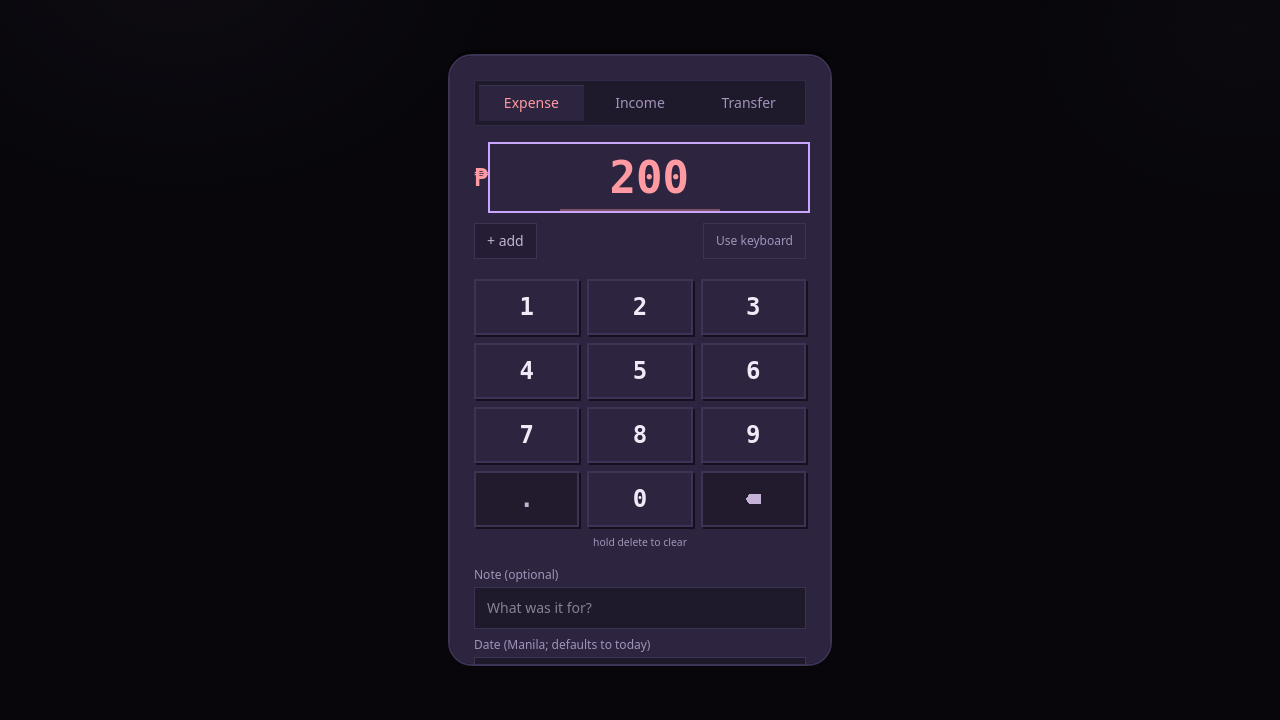
Test: AddSheet keypad (touch) › accepts a digit after a prefilled amount, which is where it used to die
The width and height of the screenshot is (1280, 720).
Expected: the field named "Amount in pesos" holds "200", top-left (492, 146), bottom-right (806, 209)
Click the button "5" at (640, 371), box top-left (587, 343), bottom-right (693, 399)
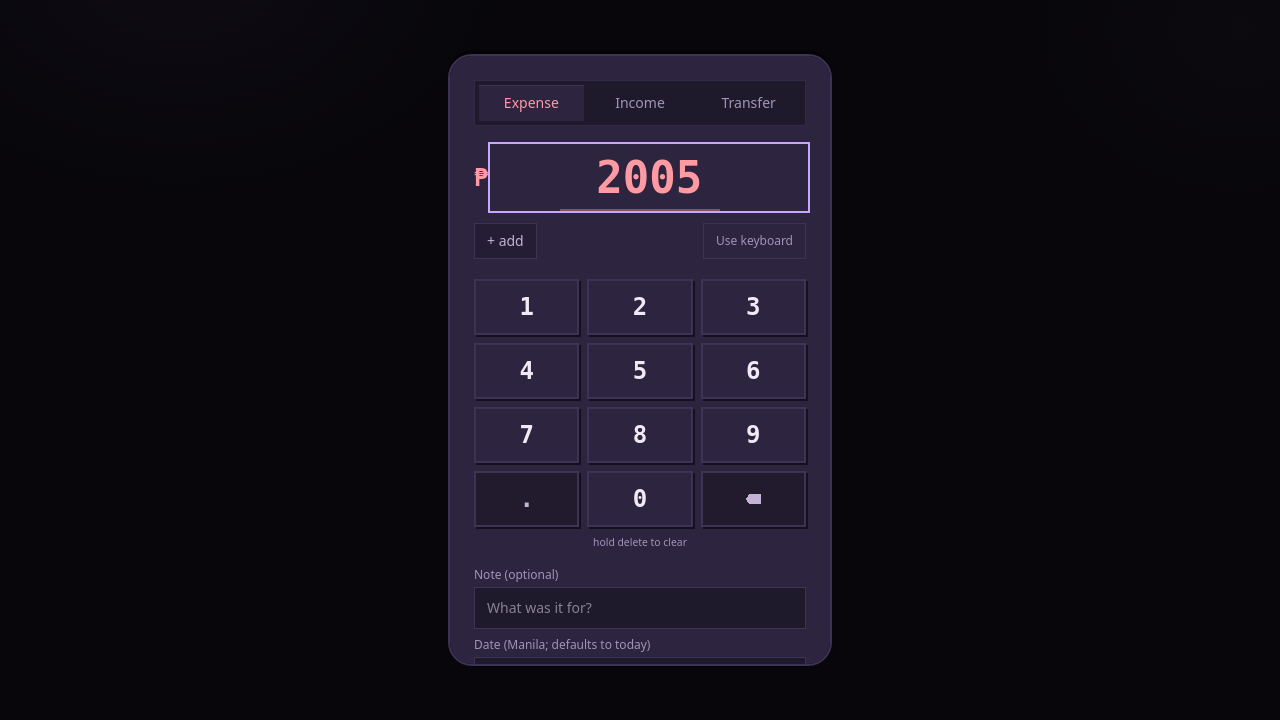
Result: the field named "Amount in pesos" holds "2005" at top-left (492, 146), bottom-right (806, 209)
